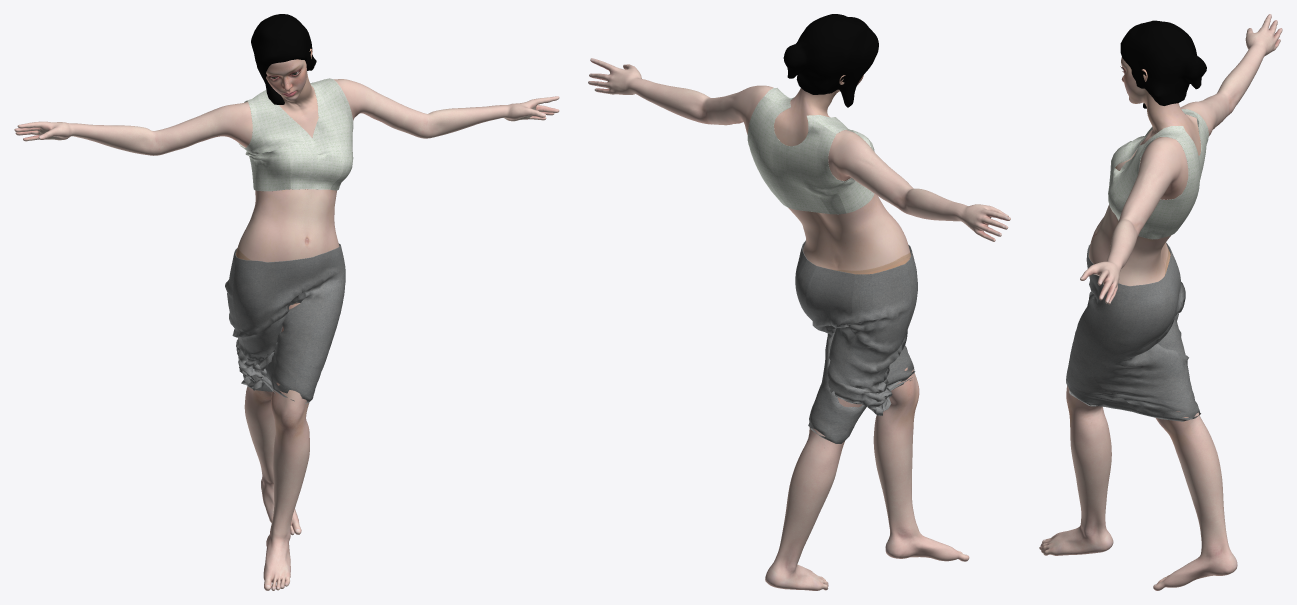
Rendered from Dynamic.obj.
3 renders of one model, left to right at view 1: azimuth 30°, elevation 25°; view 2: azimuth 150°, elevation 25°; view 3: azimuth 270°, elevation 25°, orthographic. The views are drawn at different scales.
Bounding box in the file's own units: 1601 × 1717 × 679.
